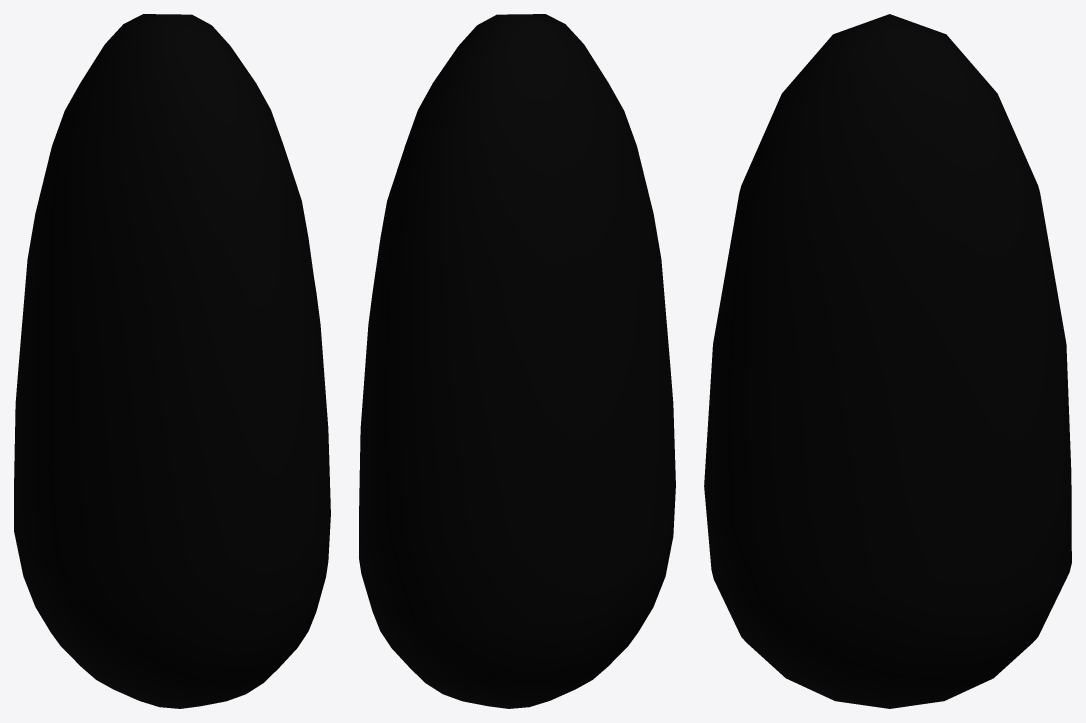
Rendered from RollJumpRope.fbx.
3 views of the same model, side by side, from view 1: azimuth 30°, elevation 25°; view 2: azimuth 150°, elevation 25°; view 3: azimuth 270°, elevation 25° (orthographic).
Visible parts, largest first — view 1: jumpRope; view 2: jumpRope; view 3: jumpRope.
Part boxes in pixels (x1,y1,x2,y2): jumpRope: (14, 14, 330, 708); jumpRope: (359, 14, 675, 708); jumpRope: (704, 14, 1071, 708).
Bounding box in the file's own units: 107 × 269 × 132.
